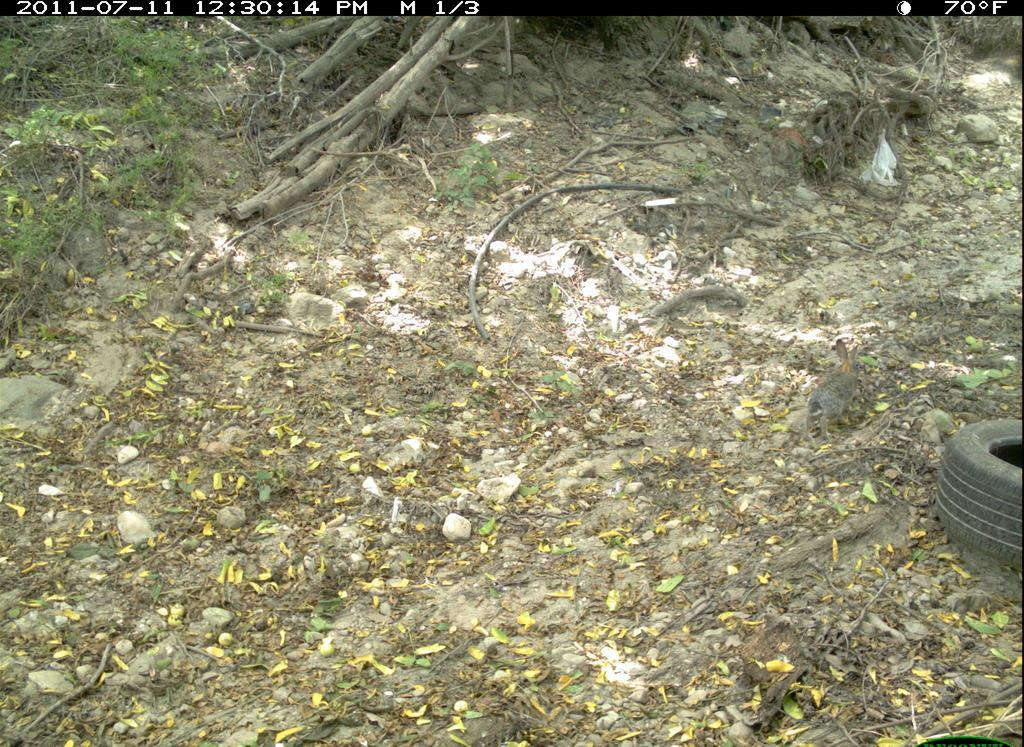rabbit: (795, 338, 872, 450)
